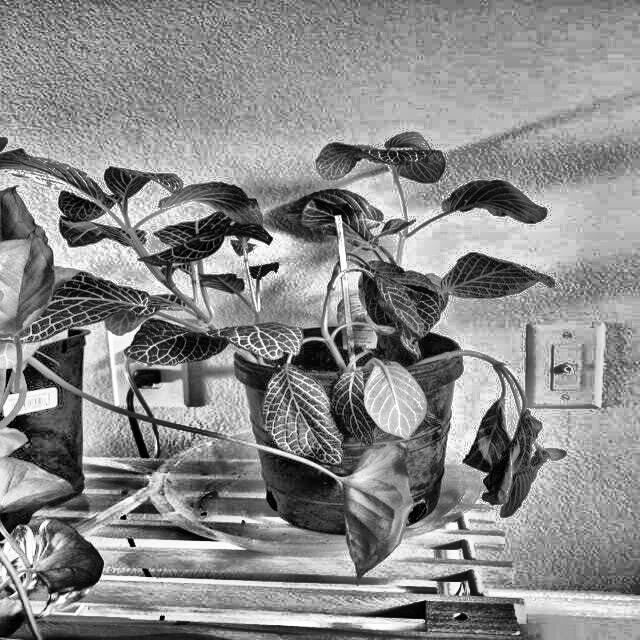plants: (44, 132, 578, 562), (390, 322, 580, 542), (0, 518, 130, 622)
